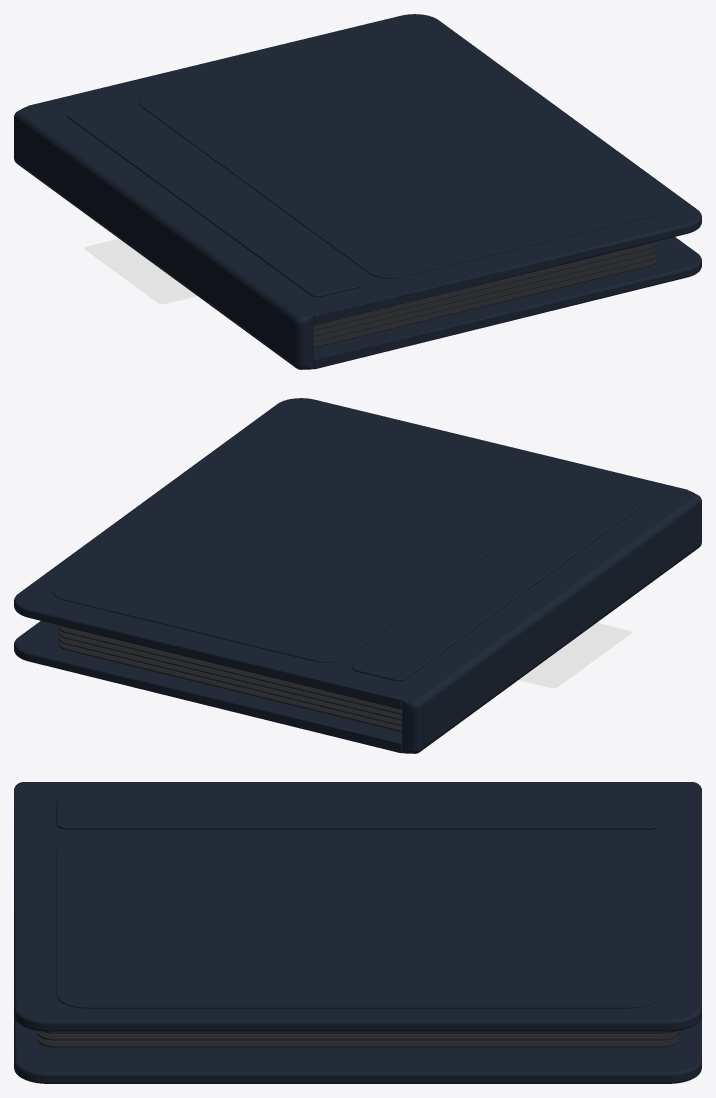
Rendered from album-6h.glb.
3 renders of one model, top to bottom at view 1: azimuth 30°, elevation 25°; view 2: azimuth 150°, elevation 25°; view 3: azimuth 270°, elevation 25°, orthographic. The views are drawn at different scales.
Parts seen in each view (by area): view 1: Tapa_Panel, Tapa_Malla, Lomo, Tapa_Banda, Contratapa, Plantilla_Carta_F, Hoja_5_Losa, Hoja_3_Losa, Hoja_4_Losa, Hoja_2_Losa; view 2: Tapa_Panel, Tapa_Malla, Lomo, Tapa_Banda, Contratapa, Plantilla_Carta_F, Hoja_5_Losa, Hoja_3_Losa, Hoja_4_Losa, Hoja_2_Losa; view 3: Tapa_Panel, Tapa_Malla, Contratapa, Tapa_Banda, Hoja_5_Losa, Lomo, Hoja_4_Losa, Hoja_3_Losa.
Boxes of the visible parts, x1,y1,x2,y2 form: Tapa_Panel: (138, 30, 663, 278); Tapa_Malla: (27, 14, 701, 325); Lomo: (14, 106, 313, 369); Tapa_Banda: (66, 101, 363, 297); Contratapa: (313, 237, 701, 369); Plantilla_Carta_F: (84, 239, 197, 304); Hoja_5_Losa: (313, 257, 657, 347); Hoja_3_Losa: (313, 246, 657, 336); Hoja_4_Losa: (313, 252, 657, 342); Hoja_2_Losa: (313, 241, 657, 330); Tapa_Panel: (52, 414, 577, 662); Tapa_Malla: (14, 398, 688, 709); Lomo: (402, 490, 701, 753); Tapa_Banda: (352, 485, 649, 681); Contratapa: (14, 621, 402, 753); Plantilla_Carta_F: (518, 623, 631, 688); Hoja_5_Losa: (58, 641, 402, 731); Hoja_3_Losa: (58, 630, 402, 720); Hoja_4_Losa: (58, 636, 402, 726); Hoja_2_Losa: (58, 625, 402, 714); Tapa_Panel: (56, 836, 659, 1008); Tapa_Malla: (14, 788, 701, 1031); Contratapa: (14, 1017, 701, 1083); Tapa_Banda: (56, 797, 659, 829); Hoja_5_Losa: (37, 1034, 678, 1047); Lomo: (14, 782, 701, 788); Hoja_4_Losa: (37, 1031, 678, 1040); Hoja_3_Losa: (42, 1031, 673, 1033).
Bounding box in the file's own units: 0.2895 × 0.0342 × 0.322.
